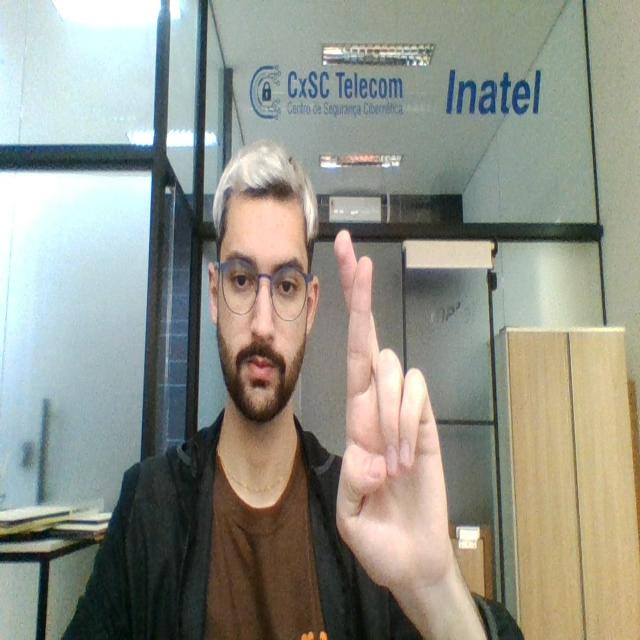R: (334, 231, 453, 581)
